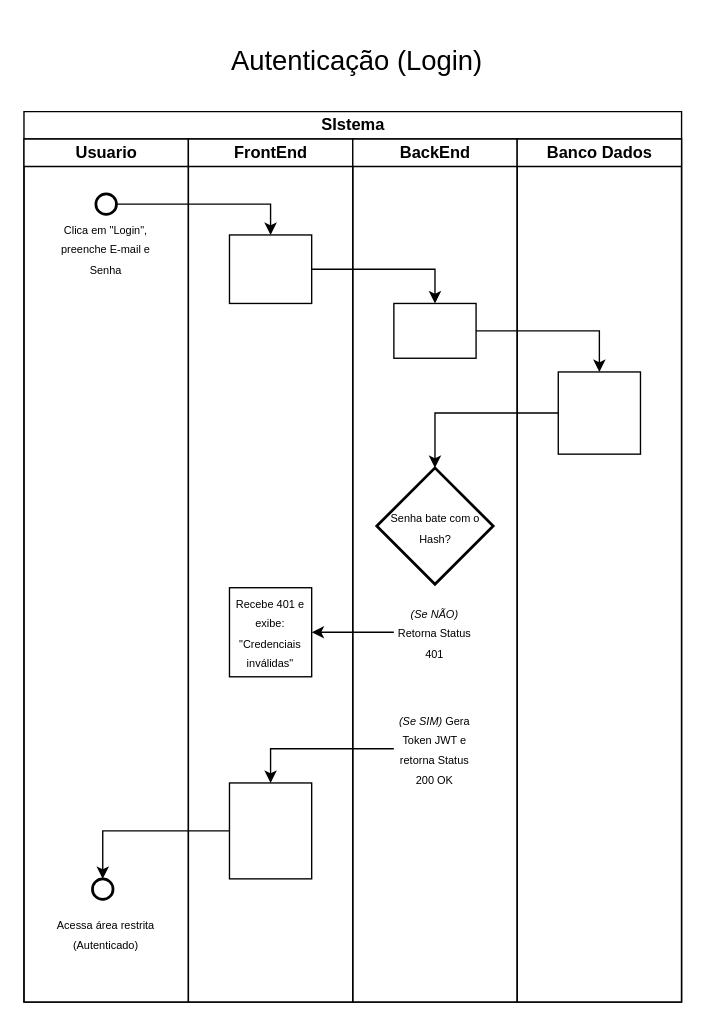
Some shapes in this 706 by 1026 pixel diagram are drawn without their labels. Each missing label, with the centre of its shape:
"Executa SELECT * FROM users WHERE email = '...'" belongs at point 598,412.
"Recebe o JSON e executa a query" belongs at point 434,330.
"Usando zustand, salva JWT no localStorage e redireciona" belongs at point 270,830.
"Valida campos e dispara POST /api/auth/login" belongs at point 270,268.
